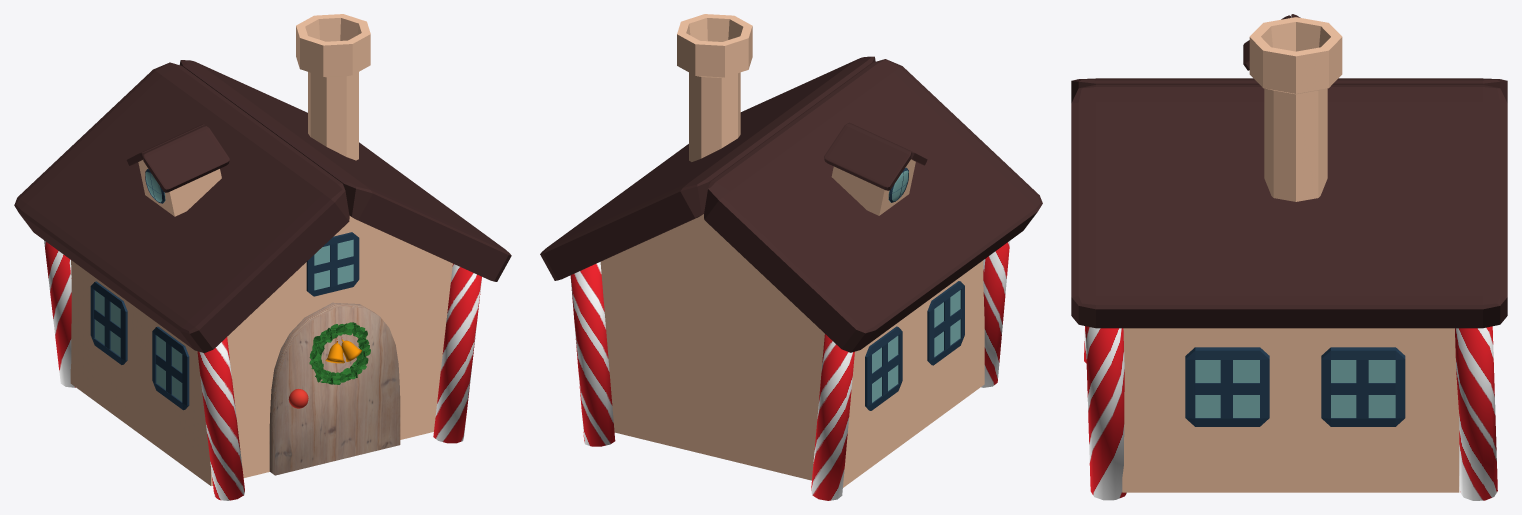
The model's file is house.fbx.
3 views of the same model, side by side, from view 1: azimuth 30°, elevation 25°; view 2: azimuth 150°, elevation 25°; view 3: azimuth 270°, elevation 25° (orthographic). The views are drawn at different scales.
Visible parts, largest first — view 1: 立方體.145; view 2: 立方體.145; view 3: 立方體.145.
Part boxes in pixels (bbox=[...]): 立方體.145: bbox=[14, 14, 511, 500]; 立方體.145: bbox=[540, 14, 1042, 500]; 立方體.145: bbox=[1071, 14, 1507, 500].
Bounding box in the file's own units: 1707 × 1804 × 1641.
10 materials, 2 textured.
